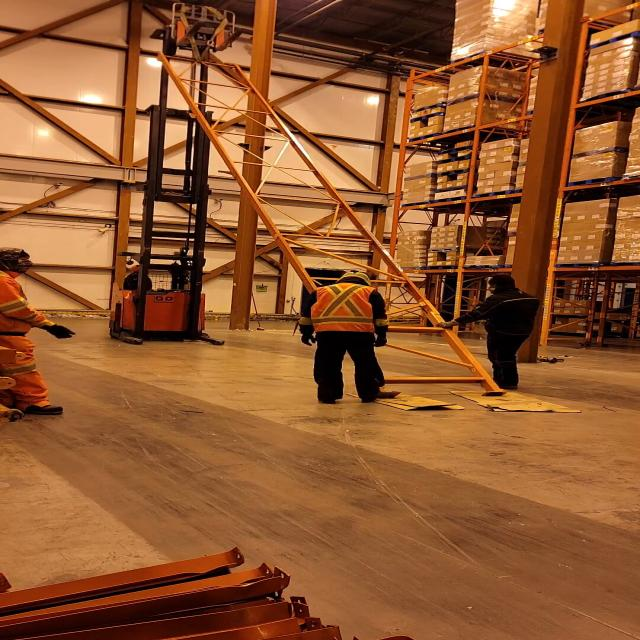forklift: (104, 182, 230, 347)
human: (293, 268, 397, 406), (0, 247, 73, 420), (434, 274, 540, 392), (111, 257, 180, 294)
objectofinterest: (147, 47, 526, 399), (446, 387, 584, 415), (341, 388, 469, 412)
